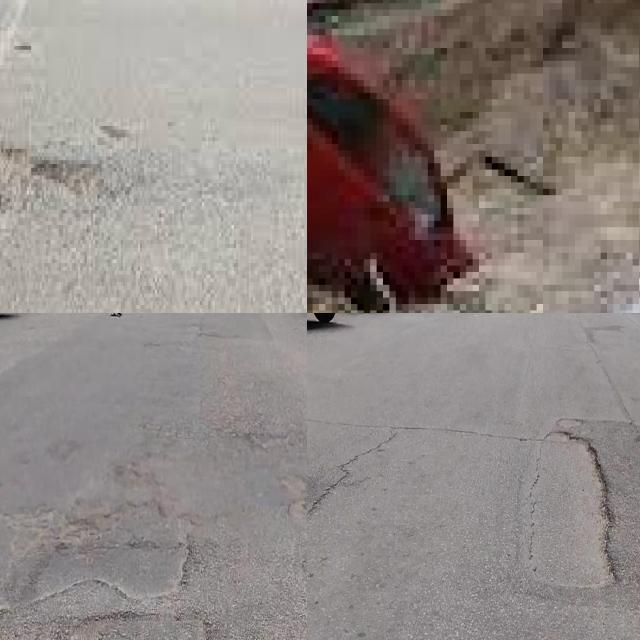Pothole: (307, 0, 640, 313), (528, 426, 618, 592), (34, 536, 193, 607), (0, 145, 93, 209)
